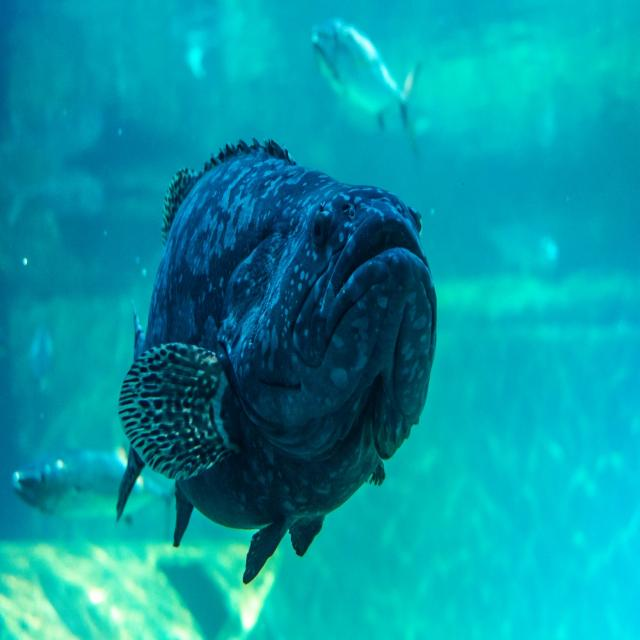grouper: (118, 131, 442, 586)
